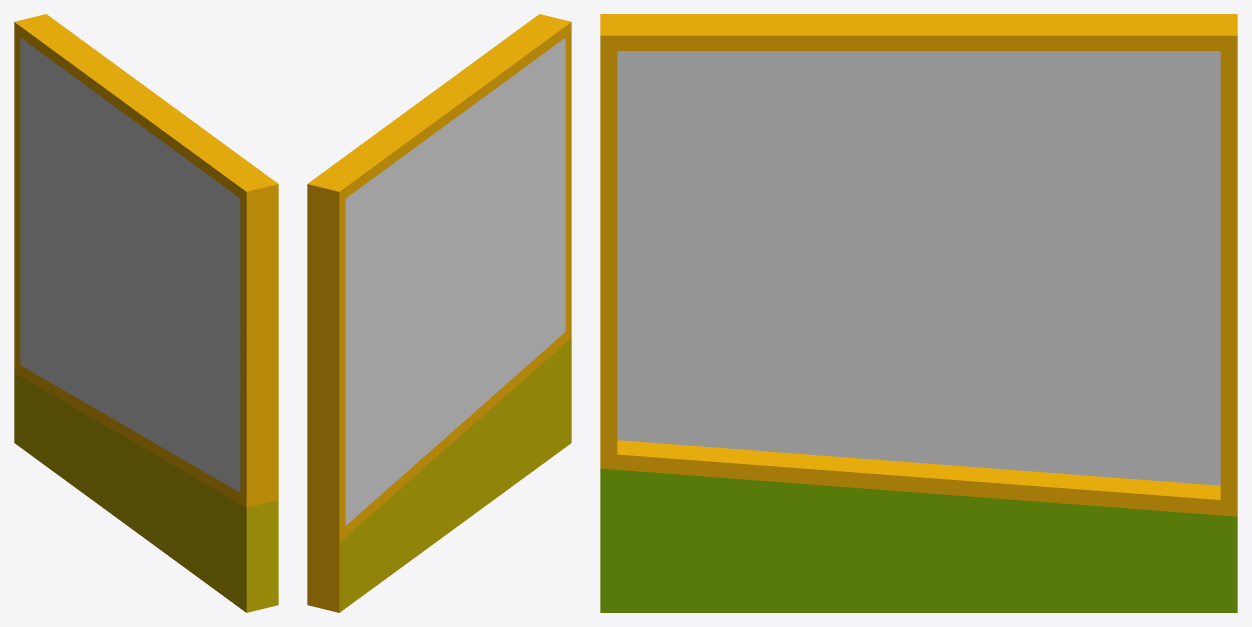
The model's file is window_side_3.dae.
3 views of the same model, side by side, from view 1: azimuth 30°, elevation 25°; view 2: azimuth 150°, elevation 25°; view 3: azimuth 270°, elevation 25° (orthographic). The views are drawn at different scales.
Parts seen in each view (by area): view 1: Cube; view 2: Cube; view 3: Cube.
Part boxes in pixels (<box>): Cube: <box>14,14,278,612</box>; Cube: <box>307,14,571,612</box>; Cube: <box>600,14,1237,612</box>.
Size of the model in its own units: 0.06 by 0.75 by 0.75.
